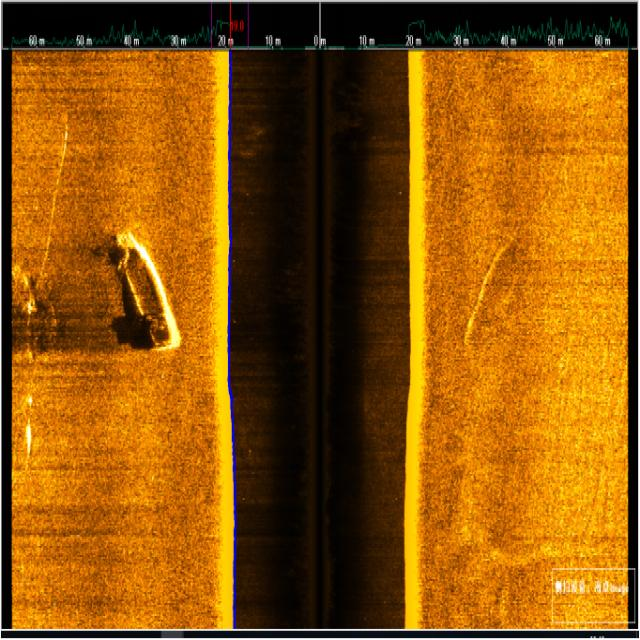ship: (112, 227, 182, 354)
